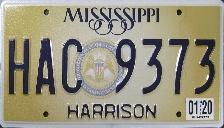3: (191, 37, 218, 95), (139, 37, 165, 96)
7: (167, 37, 192, 97)
9: (112, 37, 139, 95)
A: (33, 37, 58, 97)
C: (60, 38, 85, 96)
H: (6, 37, 32, 97)
